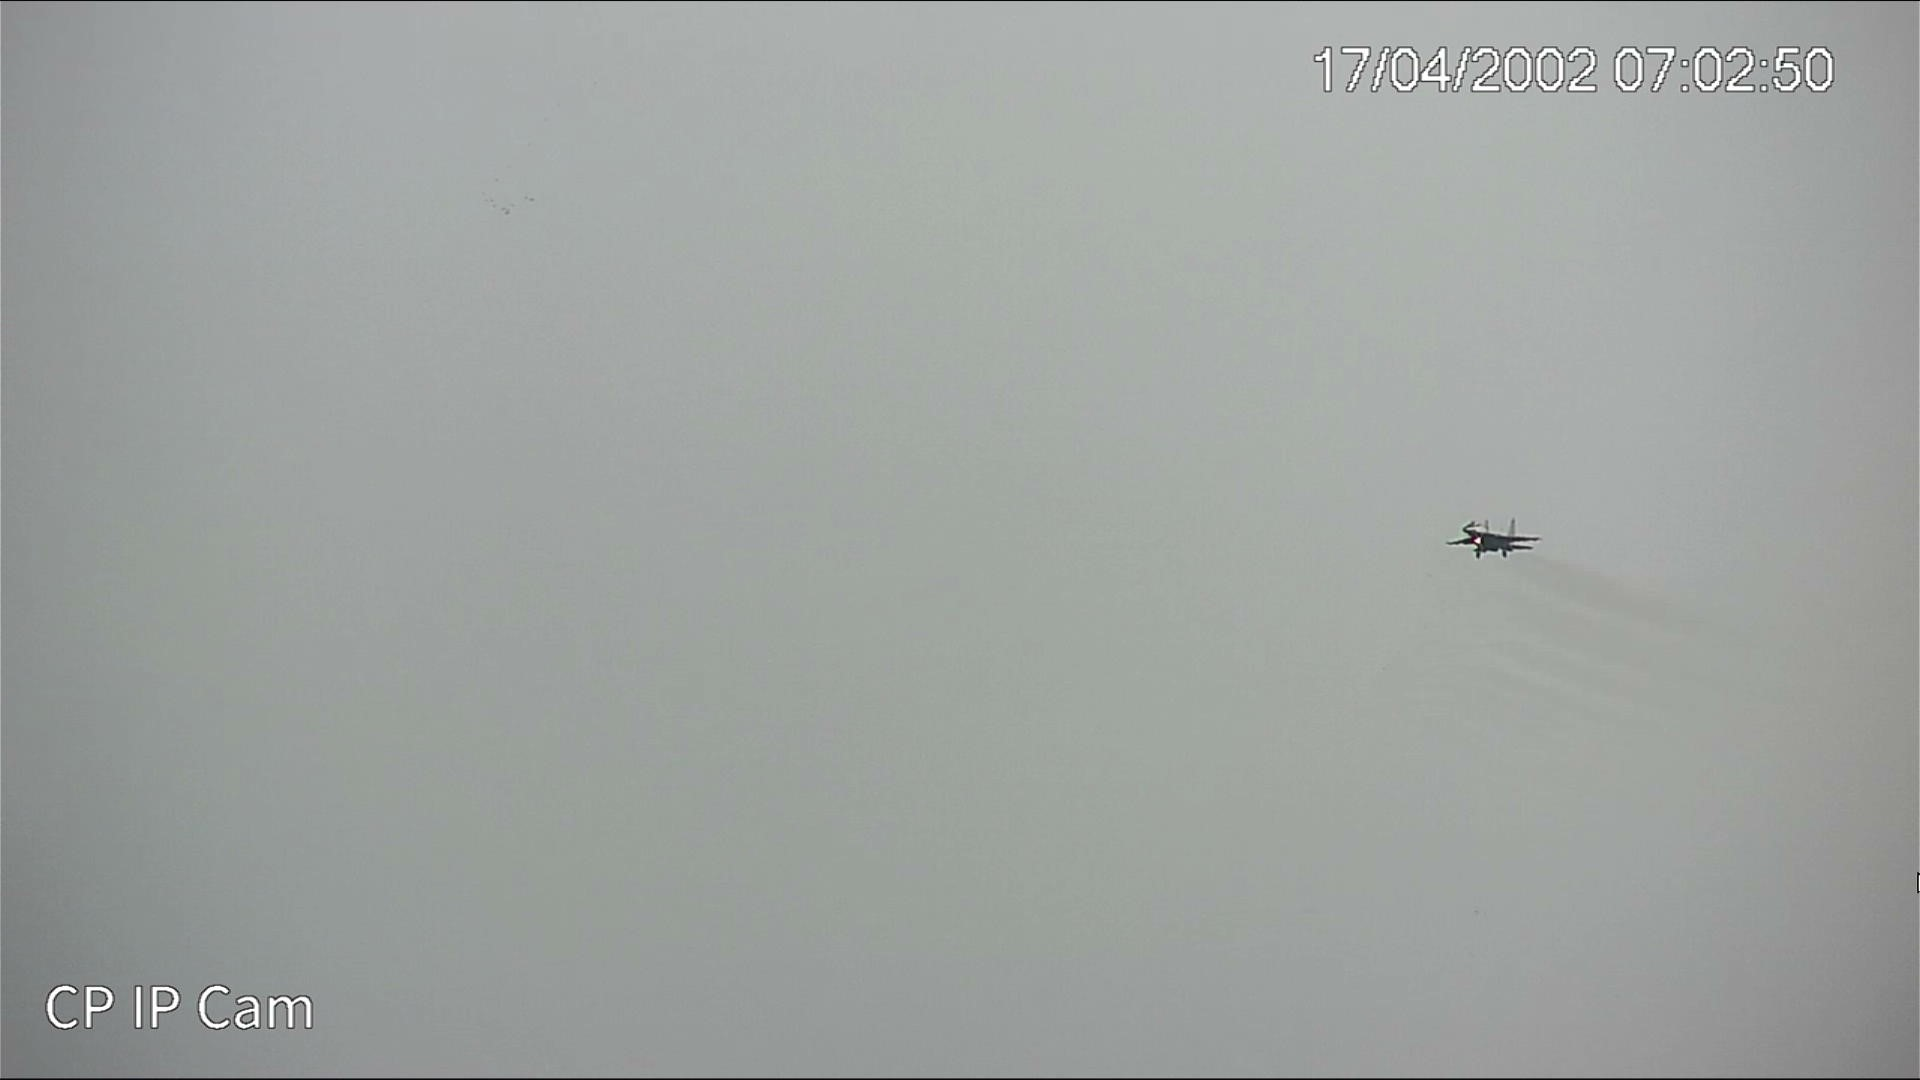SU_30: (1447, 516, 1536, 553)
